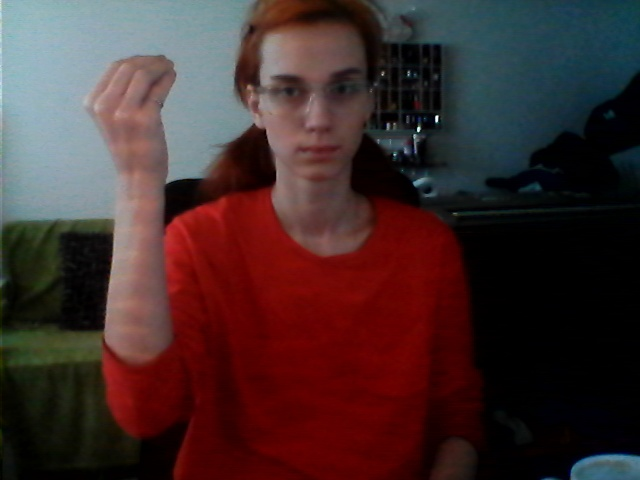domov: (66, 51, 280, 194)
